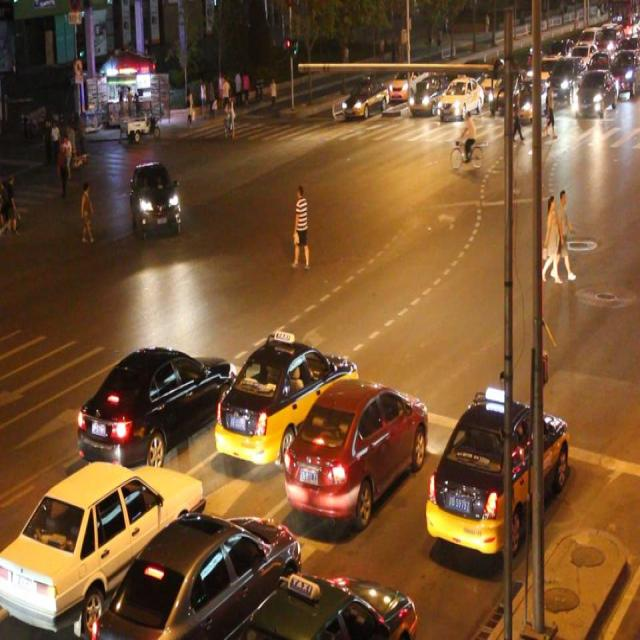car: (1, 460, 202, 629), (91, 509, 303, 640), (423, 394, 568, 560), (281, 376, 427, 524), (77, 345, 236, 470), (214, 335, 359, 466), (246, 567, 416, 640), (130, 160, 182, 238)
